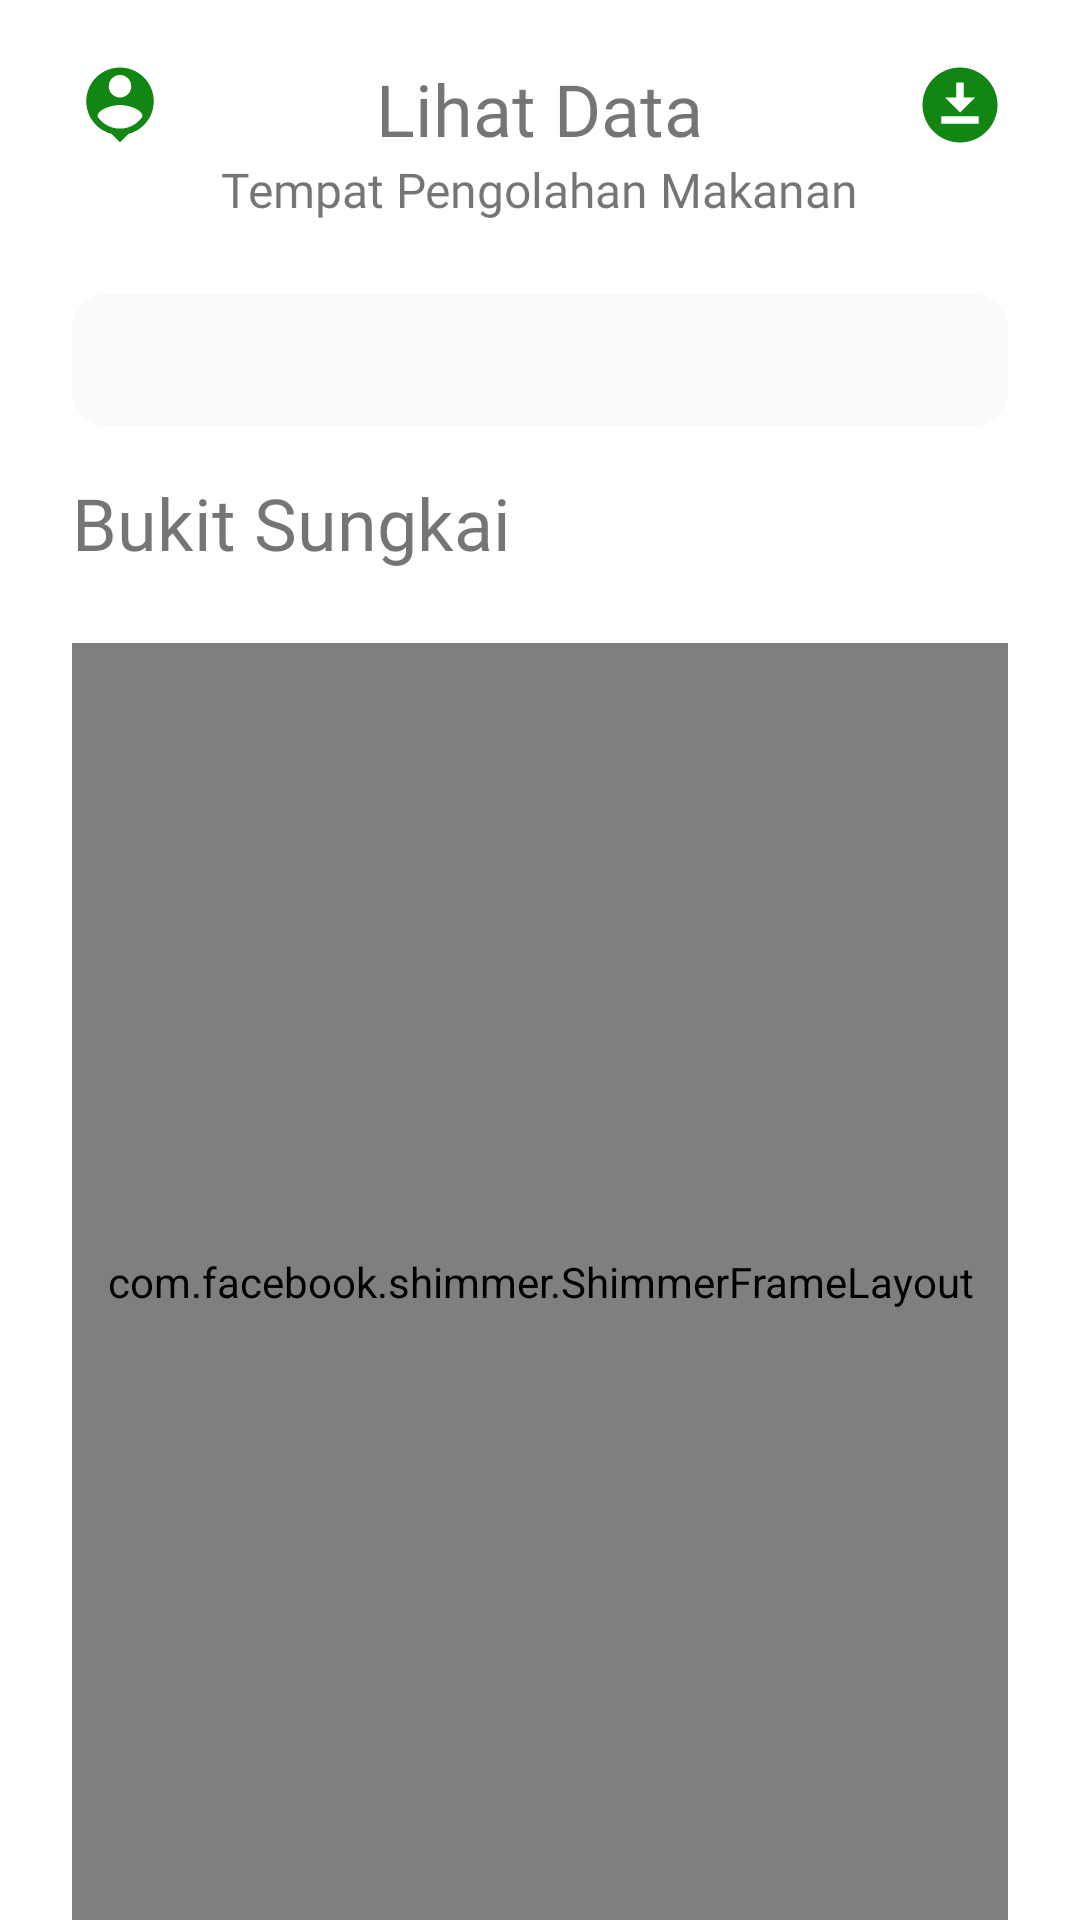

Icons on this 1080x1920 Android screen, each with the point to tap as (x,y):
download for offline: (960,105)
person pin: (120,104)
